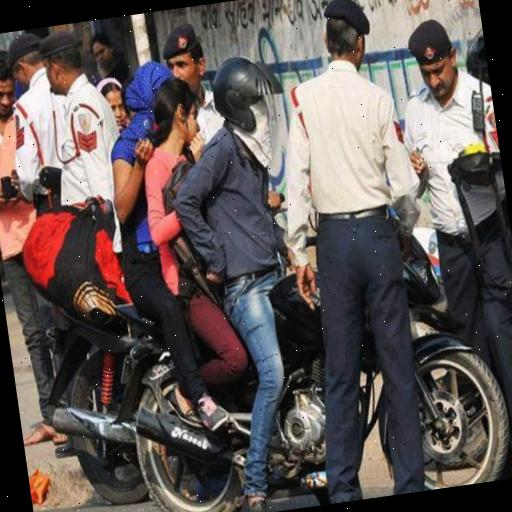helmet: (177, 13, 374, 512)
